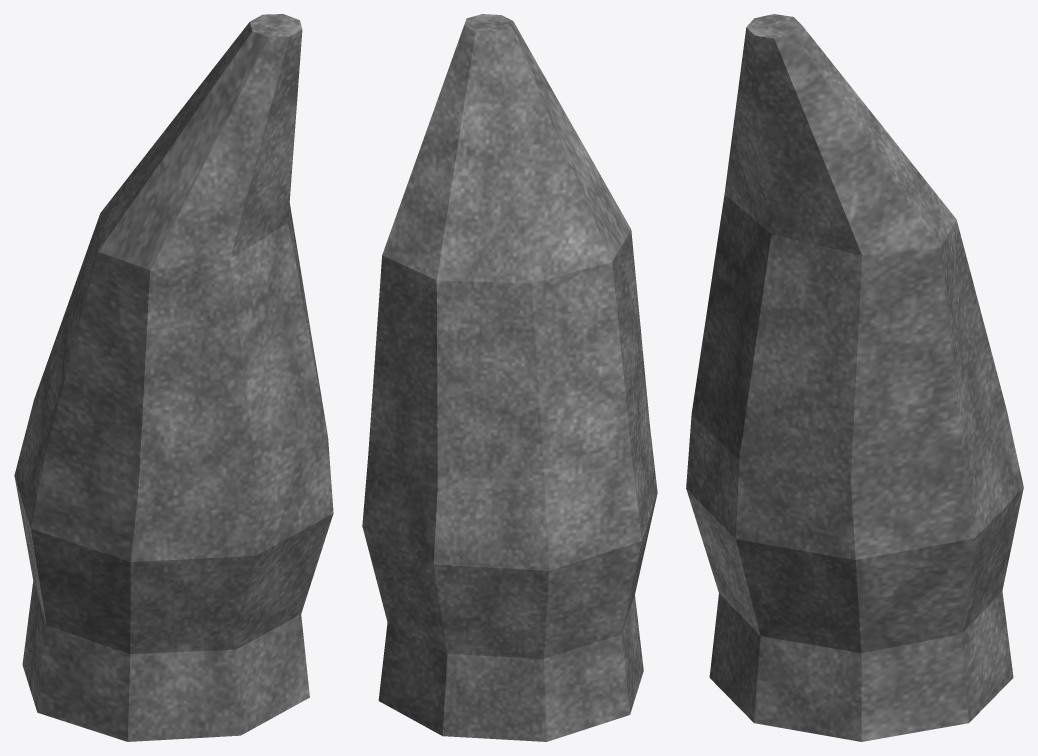
File: spike individual var 6.fbx
The picture shows the model from 3 angles, left to right: view 1: azimuth 30°, elevation 25°; view 2: azimuth 150°, elevation 25°; view 3: azimuth 270°, elevation 25°; orthographic projection. The views are drawn at different scales.
Visible parts, largest first — view 1: spike individual var 6; view 2: spike individual var 6; view 3: spike individual var 6.
Boxes of the visible parts, x1,y1,x2,y2 form: spike individual var 6: (14, 14, 333, 741); spike individual var 6: (362, 14, 657, 741); spike individual var 6: (686, 14, 1023, 741).
Bounding box in the file's own units: 257 × 575 × 256.
